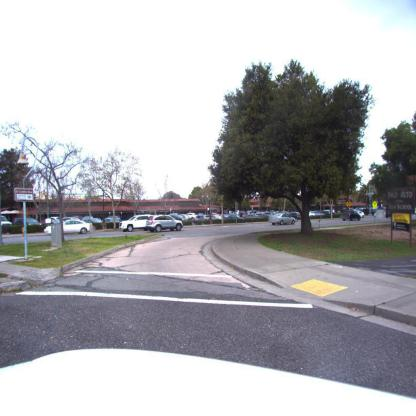car: (45, 218, 93, 235), (8, 218, 44, 234), (122, 215, 155, 232), (150, 215, 184, 231), (270, 211, 298, 226), (341, 209, 366, 220), (0, 215, 13, 234), (103, 217, 122, 229), (82, 216, 102, 226), (309, 211, 322, 219)
sign: (15, 187, 37, 199)
